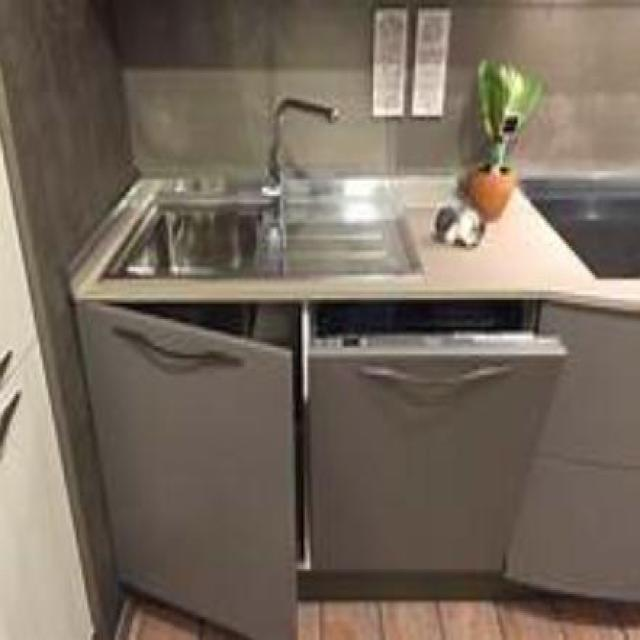dishwasher: (306, 298, 569, 580)
